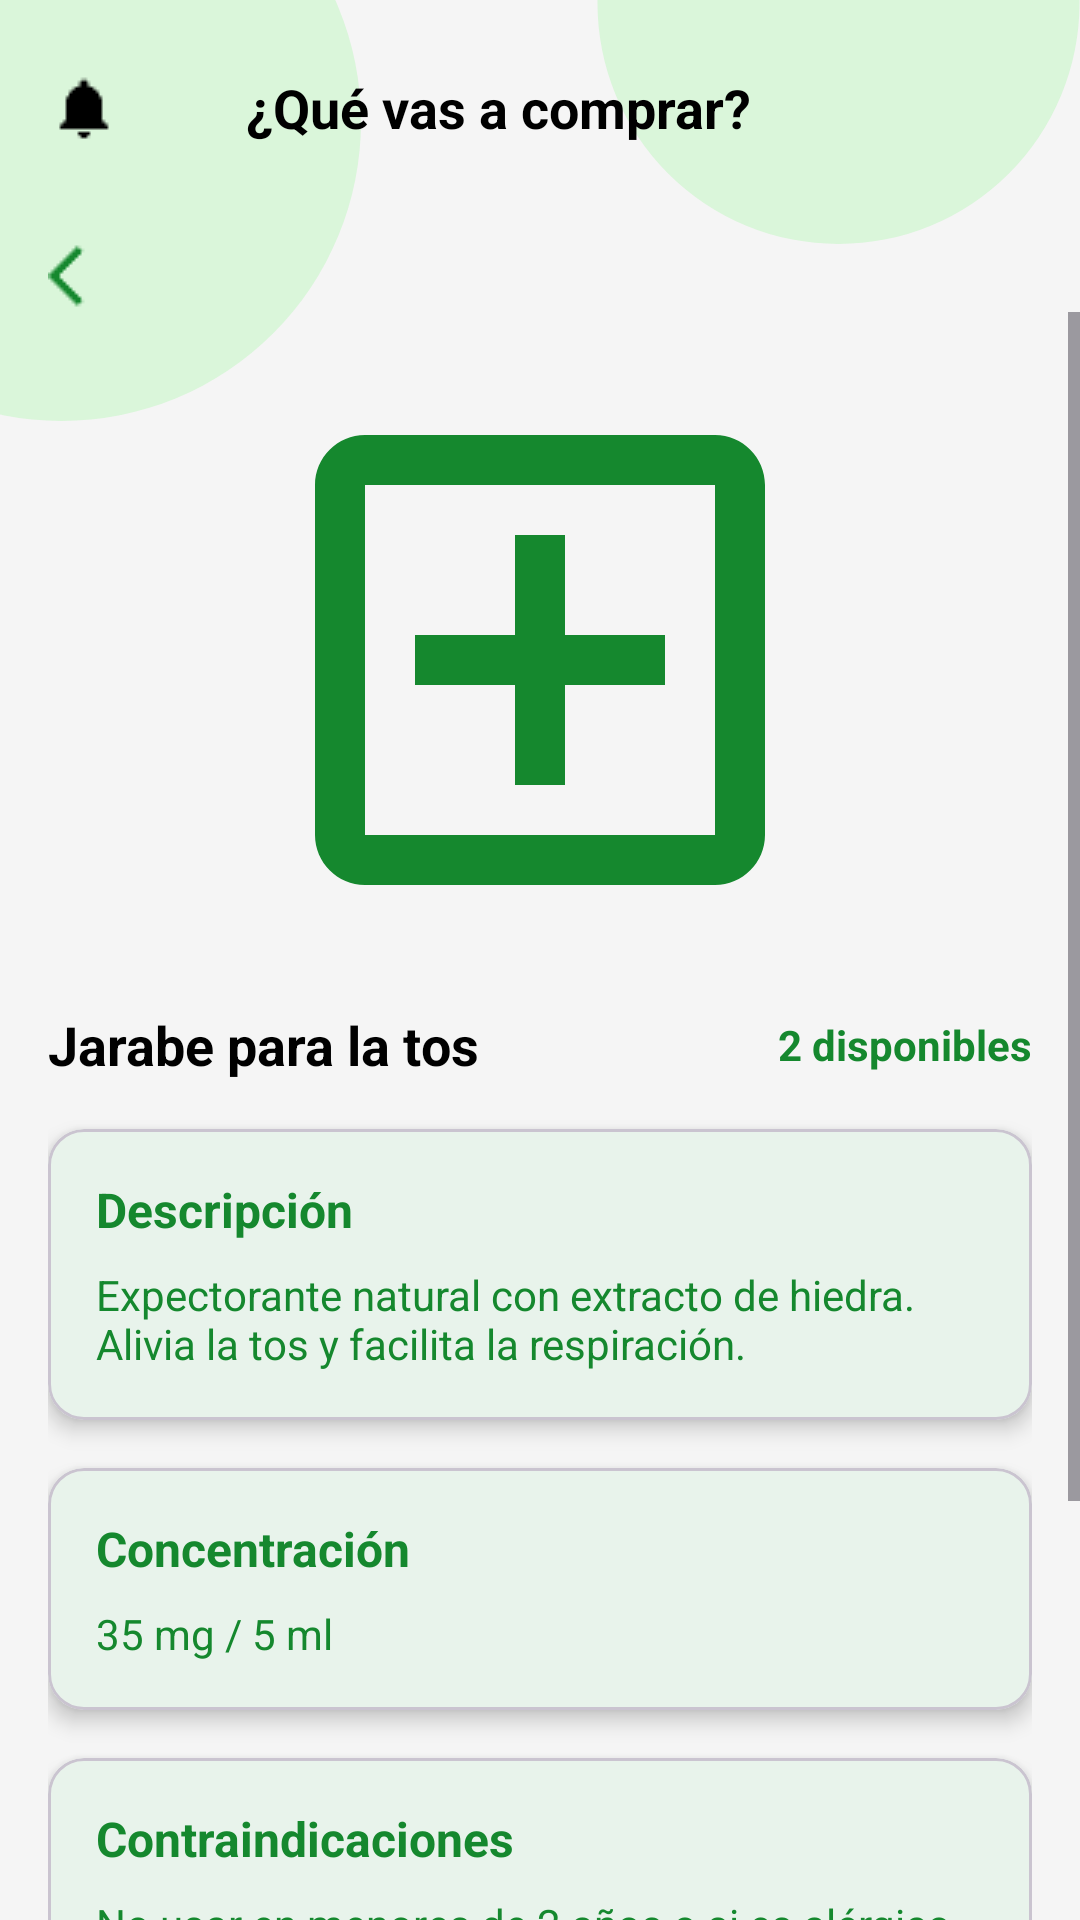

Locate icon controls on the screen. Image size 1080×1920, boxes as {"left": x1, "top": y1, "right": x2, "bottom": y2}.
arrow back: {"left": 48, "top": 245, "right": 84, "bottom": 307}
notifications: {"left": 59, "top": 78, "right": 109, "bottom": 139}
